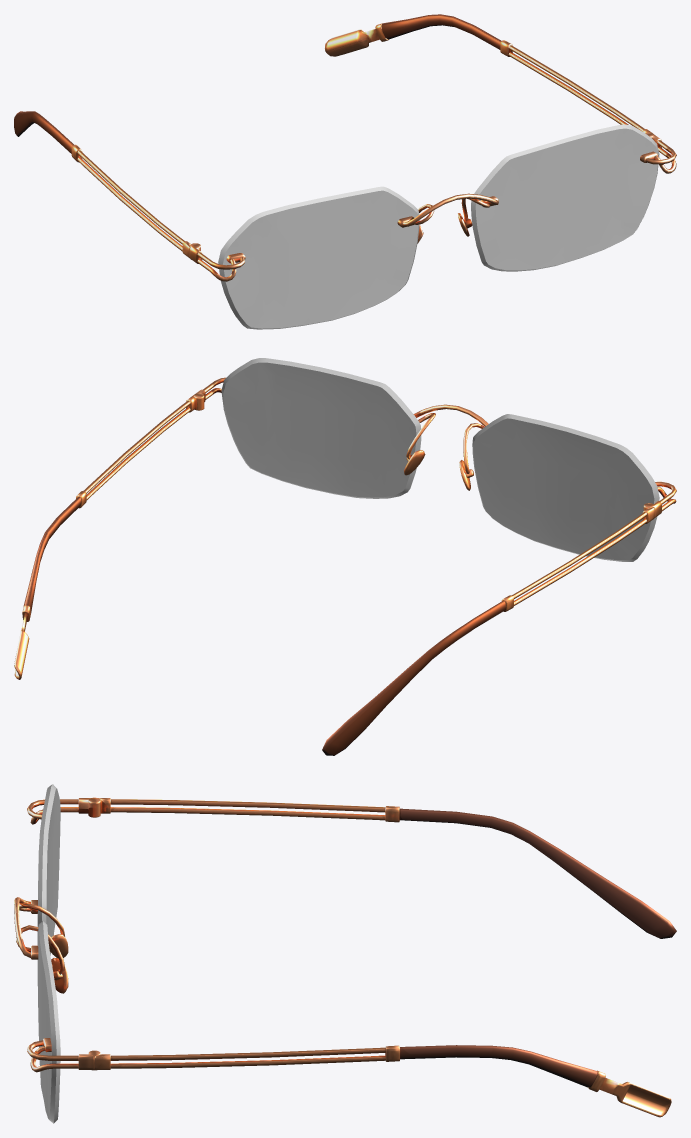
File: Model_Lun_01_baked_V2.glb
3 renders of one model, top to bottom at view 1: azimuth 30°, elevation 25°; view 2: azimuth 150°, elevation 25°; view 3: azimuth 270°, elevation 25°, orthographic. The views are drawn at different scales.
Visible parts, largest first — view 1: Glasses, Monture_Baked; view 2: Glasses, Monture_Baked; view 3: Monture_Baked, Glasses.
Part boxes in pixels (x1=…): Glasses: x1=218, y1=124, x2=659, y2=329; Monture_Baked: x1=14, y1=14, x2=676, y2=281; Glasses: x1=221, y1=358, x2=659, y2=561; Monture_Baked: x1=14, y1=377, x2=676, y2=755; Monture_Baked: x1=14, y1=797, x2=676, y2=1117; Glasses: x1=37, y1=784, x2=60, y2=1123.
Size of the model in its own units: 0.1397 by 0.036 by 0.1508.
Materials: 2 (1 with a texture image).
